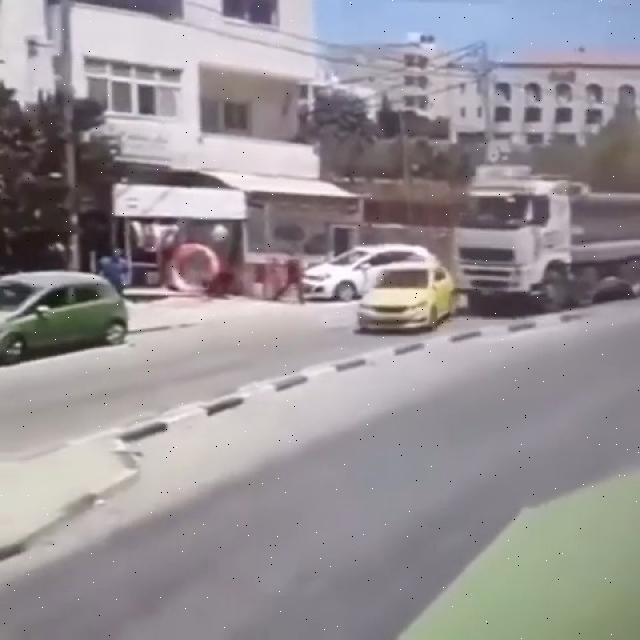accident: (360, 169, 640, 331)
